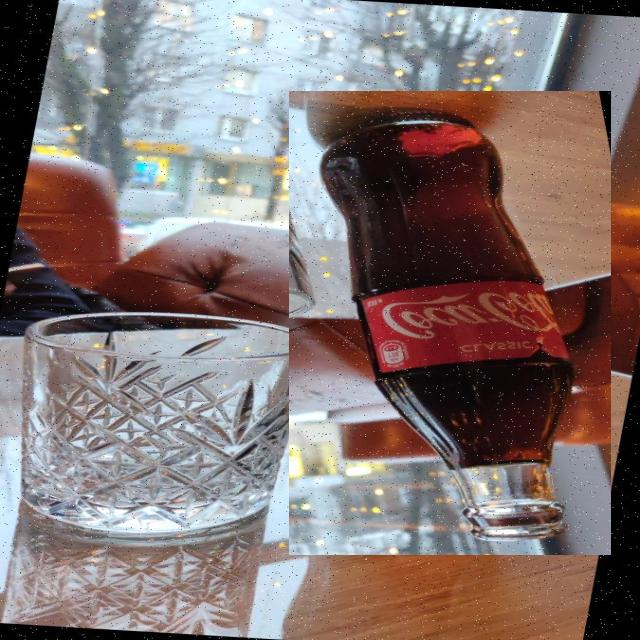coca-cola: (289, 91, 611, 555)
